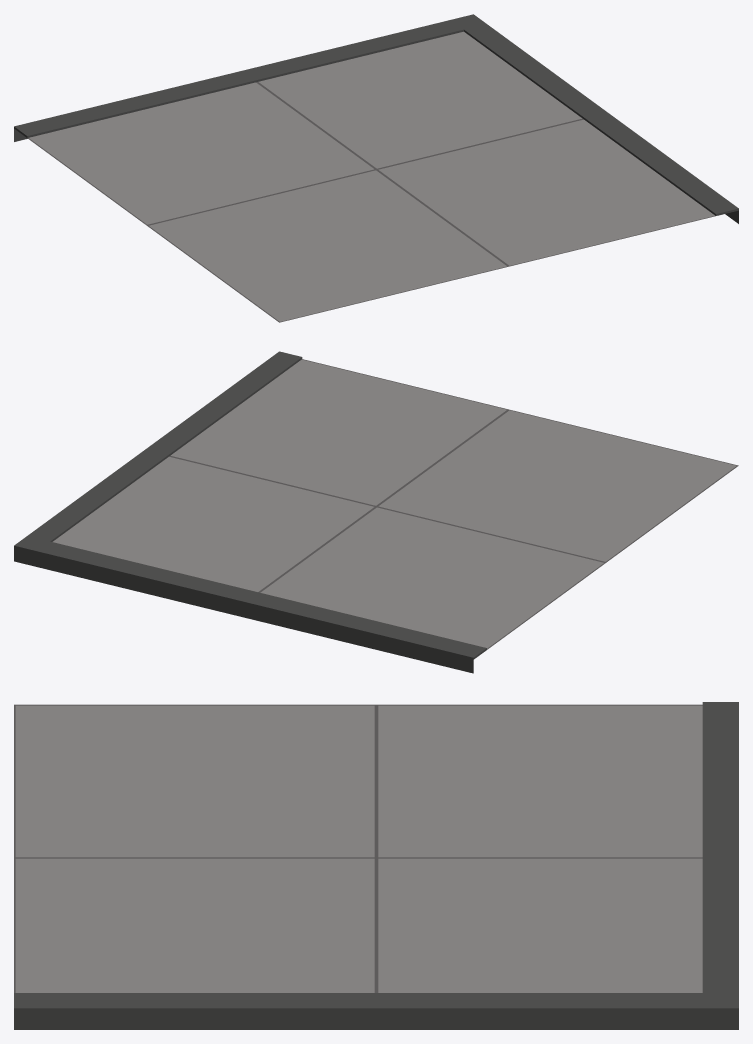
The model's file is M_SideWalk350x350_04.fbx.
3 renders of one model, top to bottom at view 1: azimuth 30°, elevation 25°; view 2: azimuth 150°, elevation 25°; view 3: azimuth 270°, elevation 25°, orthographic. The views are drawn at different scales.
Parts seen in each view (by area): view 1: M_SideWalk350x350_04; view 2: M_SideWalk350x350_04; view 3: M_SideWalk350x350_04.
Part boxes in pixels (<box>): M_SideWalk350x350_04: <box>14,14,738,322</box>; M_SideWalk350x350_04: <box>14,351,738,673</box>; M_SideWalk350x350_04: <box>14,702,738,1029</box>.
Size of the model in its own units: 350 by 350 by 11.5.
